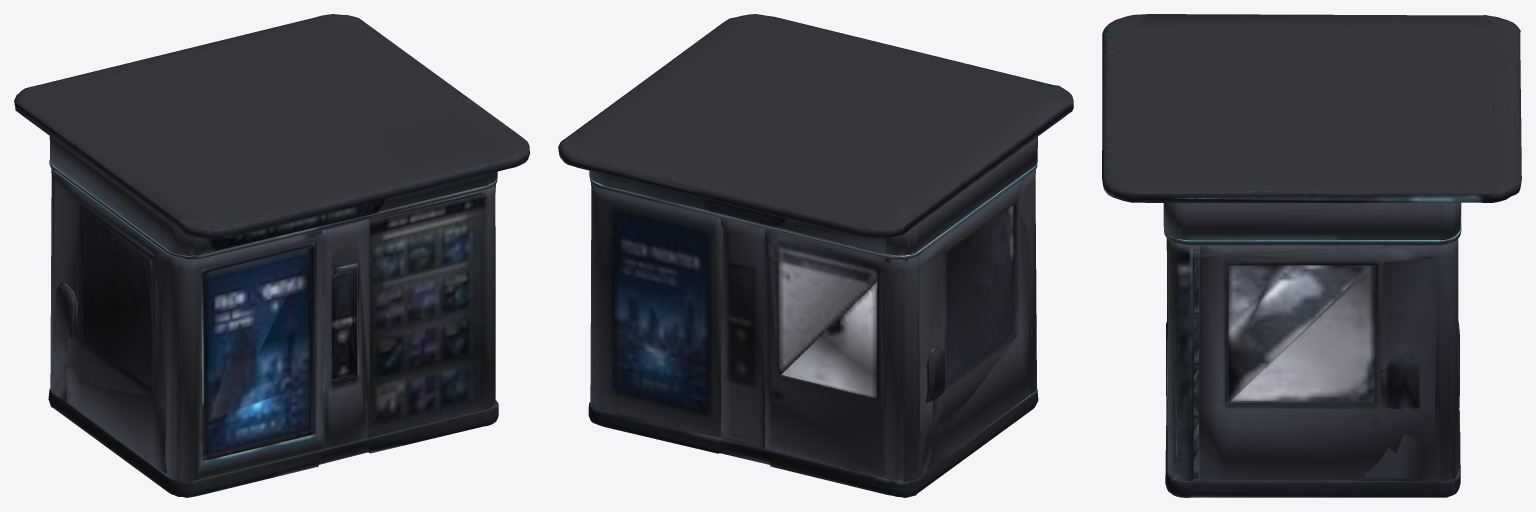
File: newsstand.glb
The picture shows the model from 3 angles, left to right: view 1: azimuth 30°, elevation 25°; view 2: azimuth 150°, elevation 25°; view 3: azimuth 270°, elevation 25°; orthographic projection. The views are drawn at different scales.
Bounding box in the file's own units: 1 × 0.8117 × 0.9925.
1 material, 1 textured.
